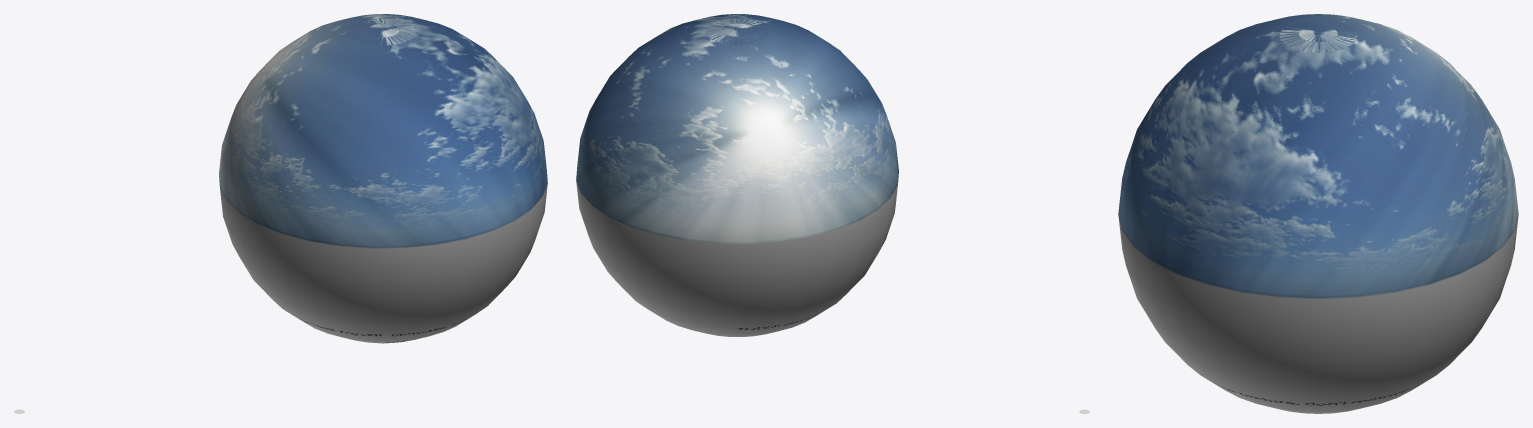
File: skybox.dae
3 views of the same model, side by side, from view 1: azimuth 30°, elevation 25°; view 2: azimuth 150°, elevation 25°; view 3: azimuth 270°, elevation 25° (orthographic). The views are drawn at different scales.
Visible parts, largest first — view 1: Sphere001; view 2: Sphere001; view 3: Sphere001.
Part boxes in pixels (x1=…): Sphere001: x1=219, y1=14, x2=547, y2=343; Sphere001: x1=576, y1=14, x2=898, y2=337; Sphere001: x1=1118, y1=14, x2=1518, y2=413.
Bounding box in the file's own units: 3.55 × 2 × 2.
Materials: 1 (1 with a texture image).
